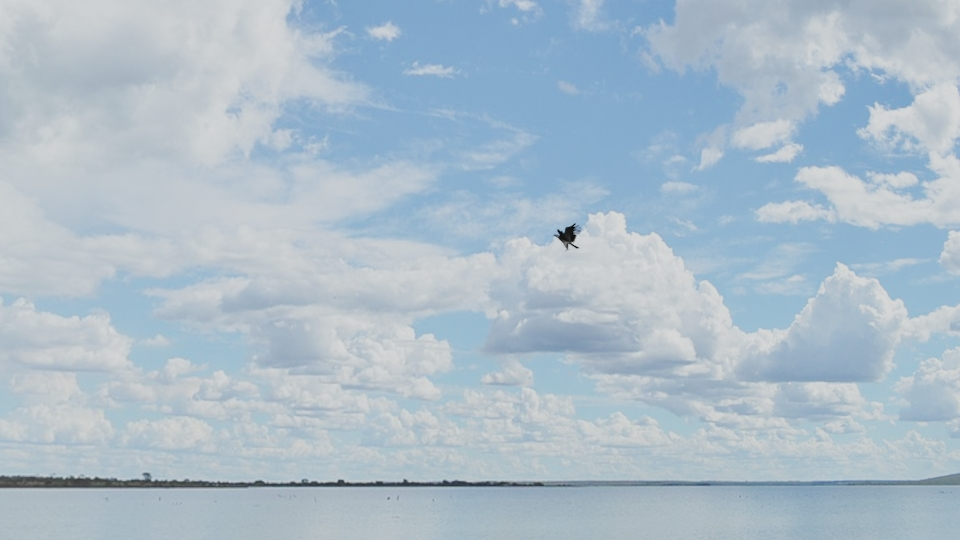bird: (554, 221, 582, 251)
